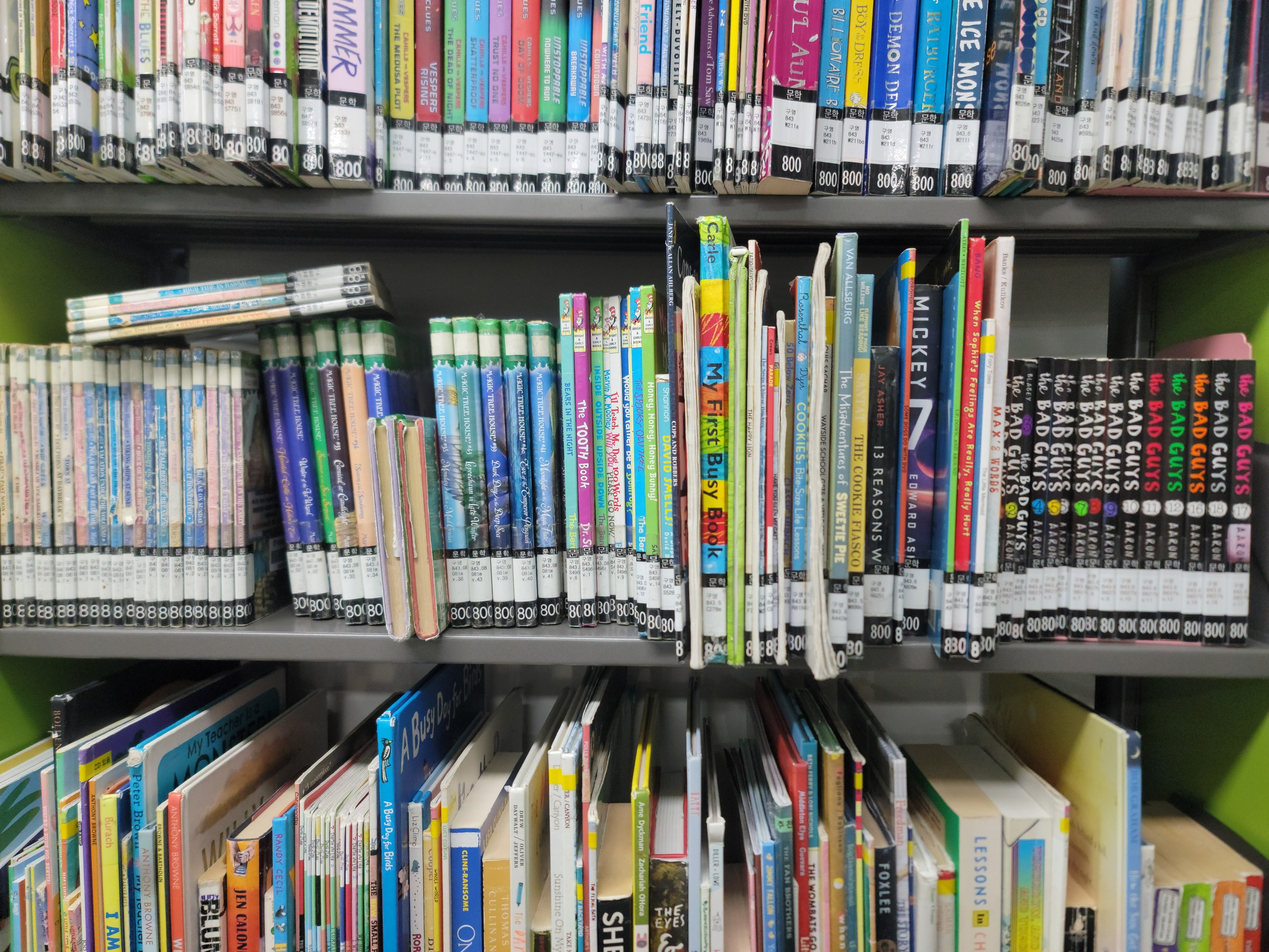book-spine: (273, 322, 333, 629), (255, 326, 312, 628), (313, 320, 366, 629), (66, 264, 369, 315), (297, 321, 347, 629), (334, 317, 383, 626), (69, 282, 370, 332), (63, 262, 367, 311), (67, 272, 366, 321), (78, 293, 377, 342), (951, 234, 985, 658), (982, 232, 1015, 659), (903, 290, 943, 639), (428, 319, 472, 631), (826, 226, 857, 667), (451, 317, 493, 632), (475, 318, 515, 632), (940, 226, 969, 658), (500, 319, 538, 632), (862, 344, 900, 647), (1039, 354, 1079, 640), (526, 322, 562, 633), (844, 275, 873, 660), (700, 274, 726, 662), (968, 319, 997, 660), (598, 295, 627, 634), (1223, 359, 1257, 645), (1156, 359, 1190, 642), (3, 345, 37, 625), (1179, 360, 1212, 646), (660, 211, 681, 660), (1201, 359, 1234, 644), (994, 353, 1026, 645), (1134, 360, 1167, 641), (891, 251, 915, 637), (1023, 356, 1055, 641), (1114, 359, 1146, 640), (571, 294, 596, 633), (1097, 360, 1127, 641), (1008, 356, 1037, 643), (788, 280, 810, 657), (1066, 359, 1095, 642), (557, 293, 581, 633), (26, 345, 55, 626), (1050, 358, 1078, 640), (812, 298, 834, 654), (1082, 359, 1109, 643), (587, 296, 609, 634), (641, 287, 662, 640), (402, 421, 436, 638), (374, 424, 407, 638), (617, 293, 637, 634), (629, 287, 648, 638), (418, 417, 449, 632), (764, 321, 783, 662), (393, 419, 422, 635), (683, 323, 701, 671), (600, 298, 618, 634), (56, 343, 77, 627), (80, 345, 101, 625), (656, 337, 675, 642), (47, 344, 67, 627), (70, 345, 90, 627), (92, 348, 112, 625), (7, 344, 26, 626), (129, 345, 148, 624), (216, 349, 235, 625), (763, 317, 778, 662), (141, 348, 159, 628), (231, 349, 249, 627), (105, 349, 123, 625), (775, 306, 789, 660), (743, 248, 755, 657), (734, 264, 746, 666), (166, 349, 183, 628), (191, 347, 207, 628), (154, 347, 170, 627), (120, 346, 135, 626), (181, 350, 196, 627), (205, 349, 220, 626), (0, 342, 14, 628), (358, 320, 390, 420)
